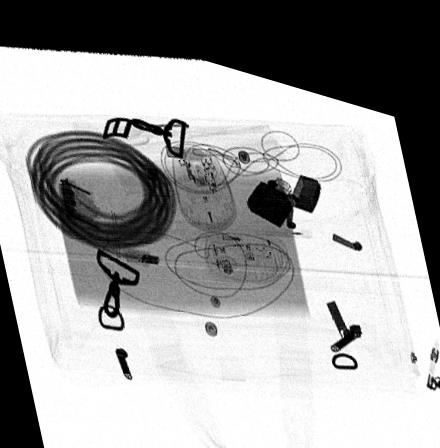Lighter: (244, 155, 320, 211)
